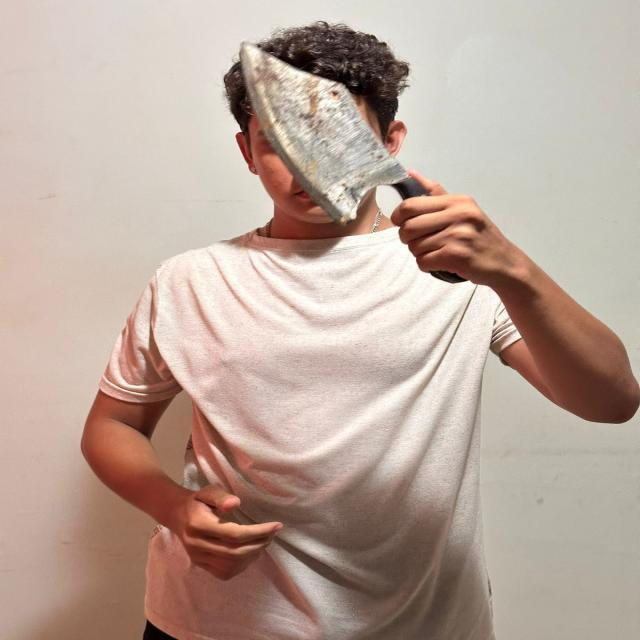knife: (242, 44, 398, 226)
